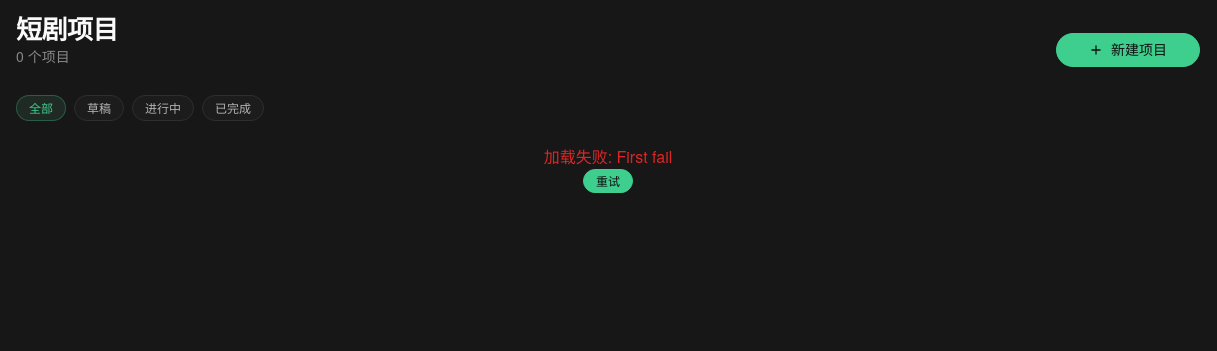
Test: DashboardPage — API error state › should retry loading when retry button is clicked
The image size is (1217, 351).
Click the button "重试".
click(608, 181)  # box [583,169,633,193]
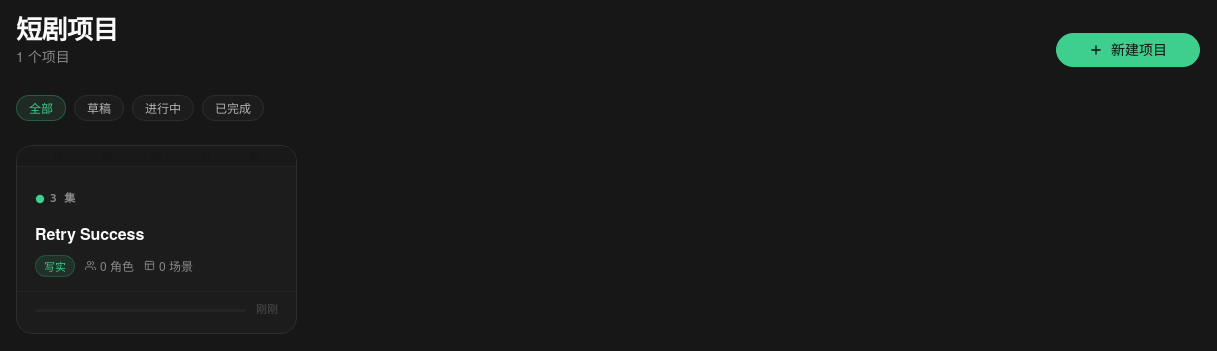
Now the heading "Retry Success" is shown, box [35,222,144,245]
